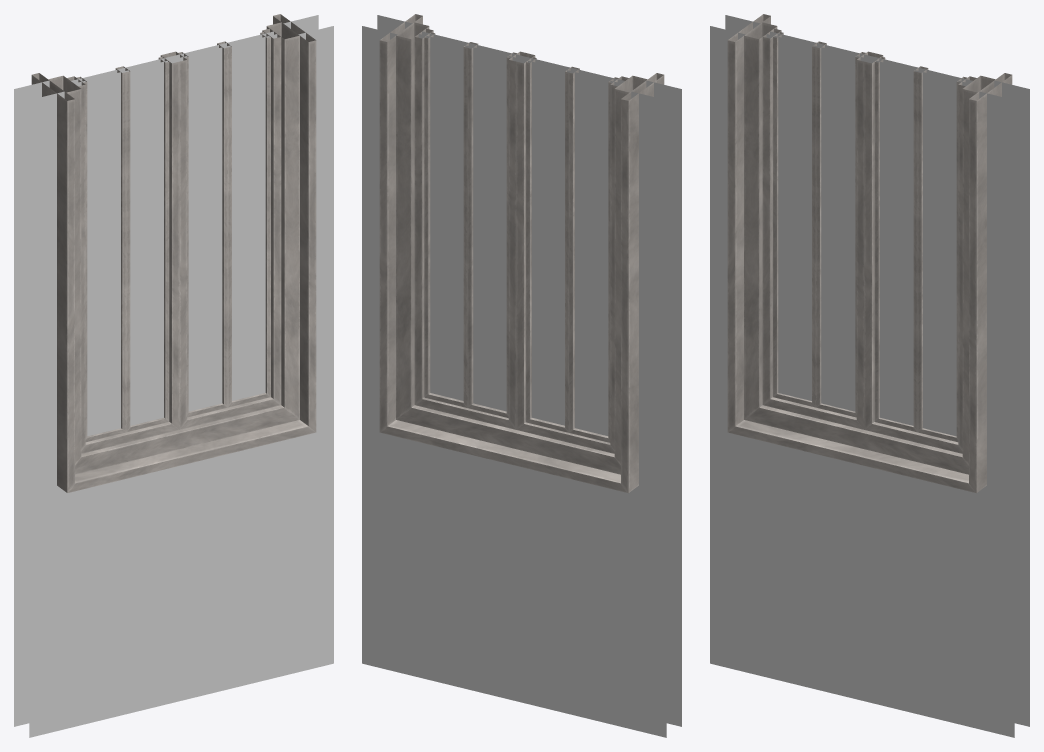
The model's file is Wall_Window_F_F.fbx.
3 views of the same model, side by side, from view 1: azimuth 30°, elevation 25°; view 2: azimuth 150°, elevation 25°; view 3: azimuth 330°, elevation 25° (orthographic).
Visible parts, largest first — view 1: Wall_Window_F_F; view 2: Wall_Window_F_F; view 3: Wall_Window_F_F.
Part boxes in pixels (box(x1,y1,x2,y2)): Wall_Window_F_F: box(14, 14, 333, 737); Wall_Window_F_F: box(362, 14, 681, 737); Wall_Window_F_F: box(710, 14, 1029, 737).
Bounding box in the file's own units: 3 × 0.6115 × 6.
